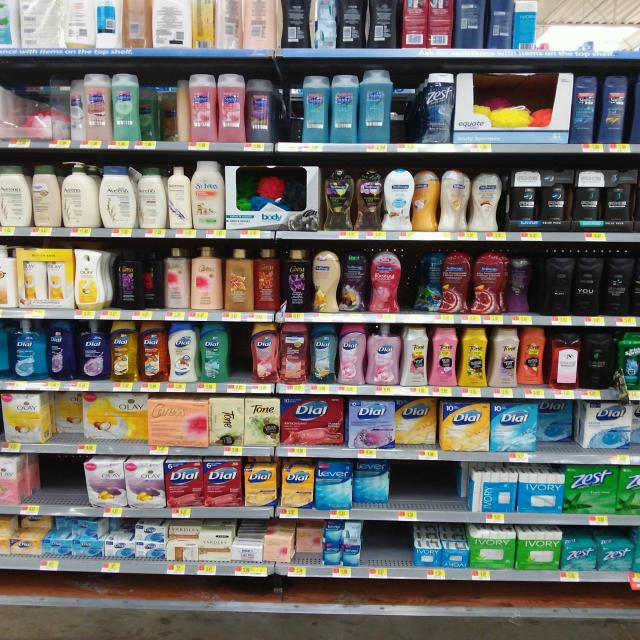void: (38, 454, 80, 516), (367, 526, 409, 579), (392, 461, 428, 522), (396, 69, 422, 152), (430, 463, 464, 523), (278, 66, 300, 152), (573, 0, 604, 59), (540, 1, 572, 58), (607, 0, 637, 57), (232, 324, 249, 392)
